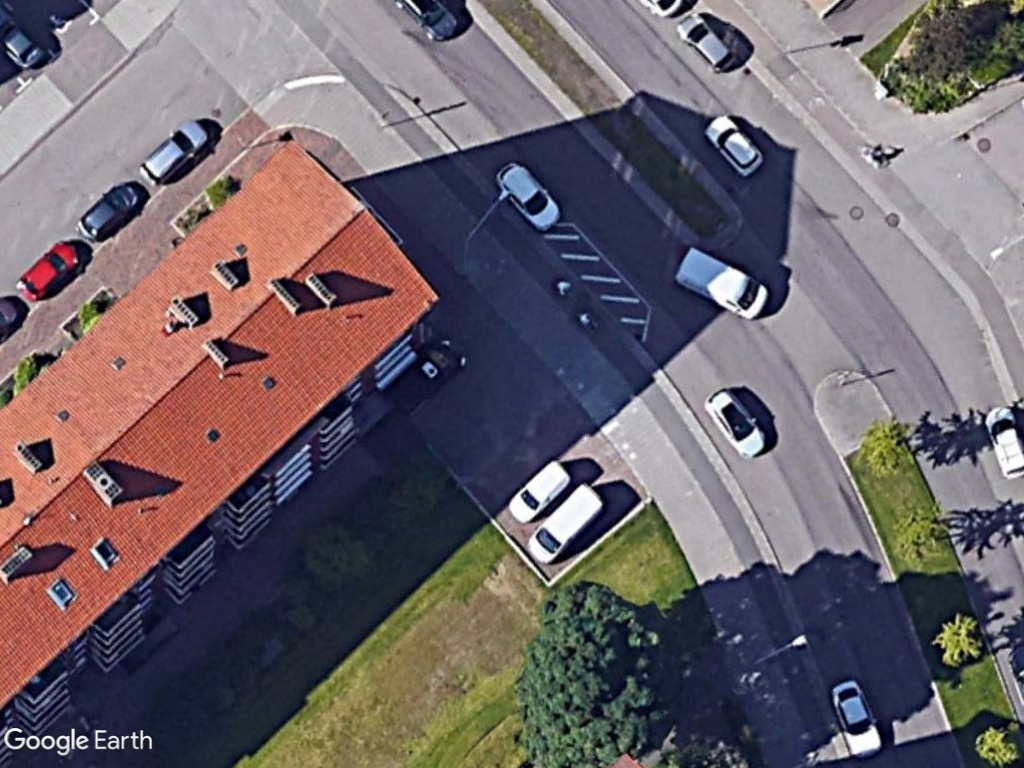car: (138, 114, 213, 192), (492, 158, 564, 235), (700, 382, 770, 461), (501, 454, 573, 526), (14, 236, 83, 306), (76, 175, 144, 246), (830, 673, 885, 760), (672, 8, 742, 74), (702, 109, 767, 177), (983, 400, 1024, 483)
van: (524, 476, 612, 570), (672, 243, 774, 323)
